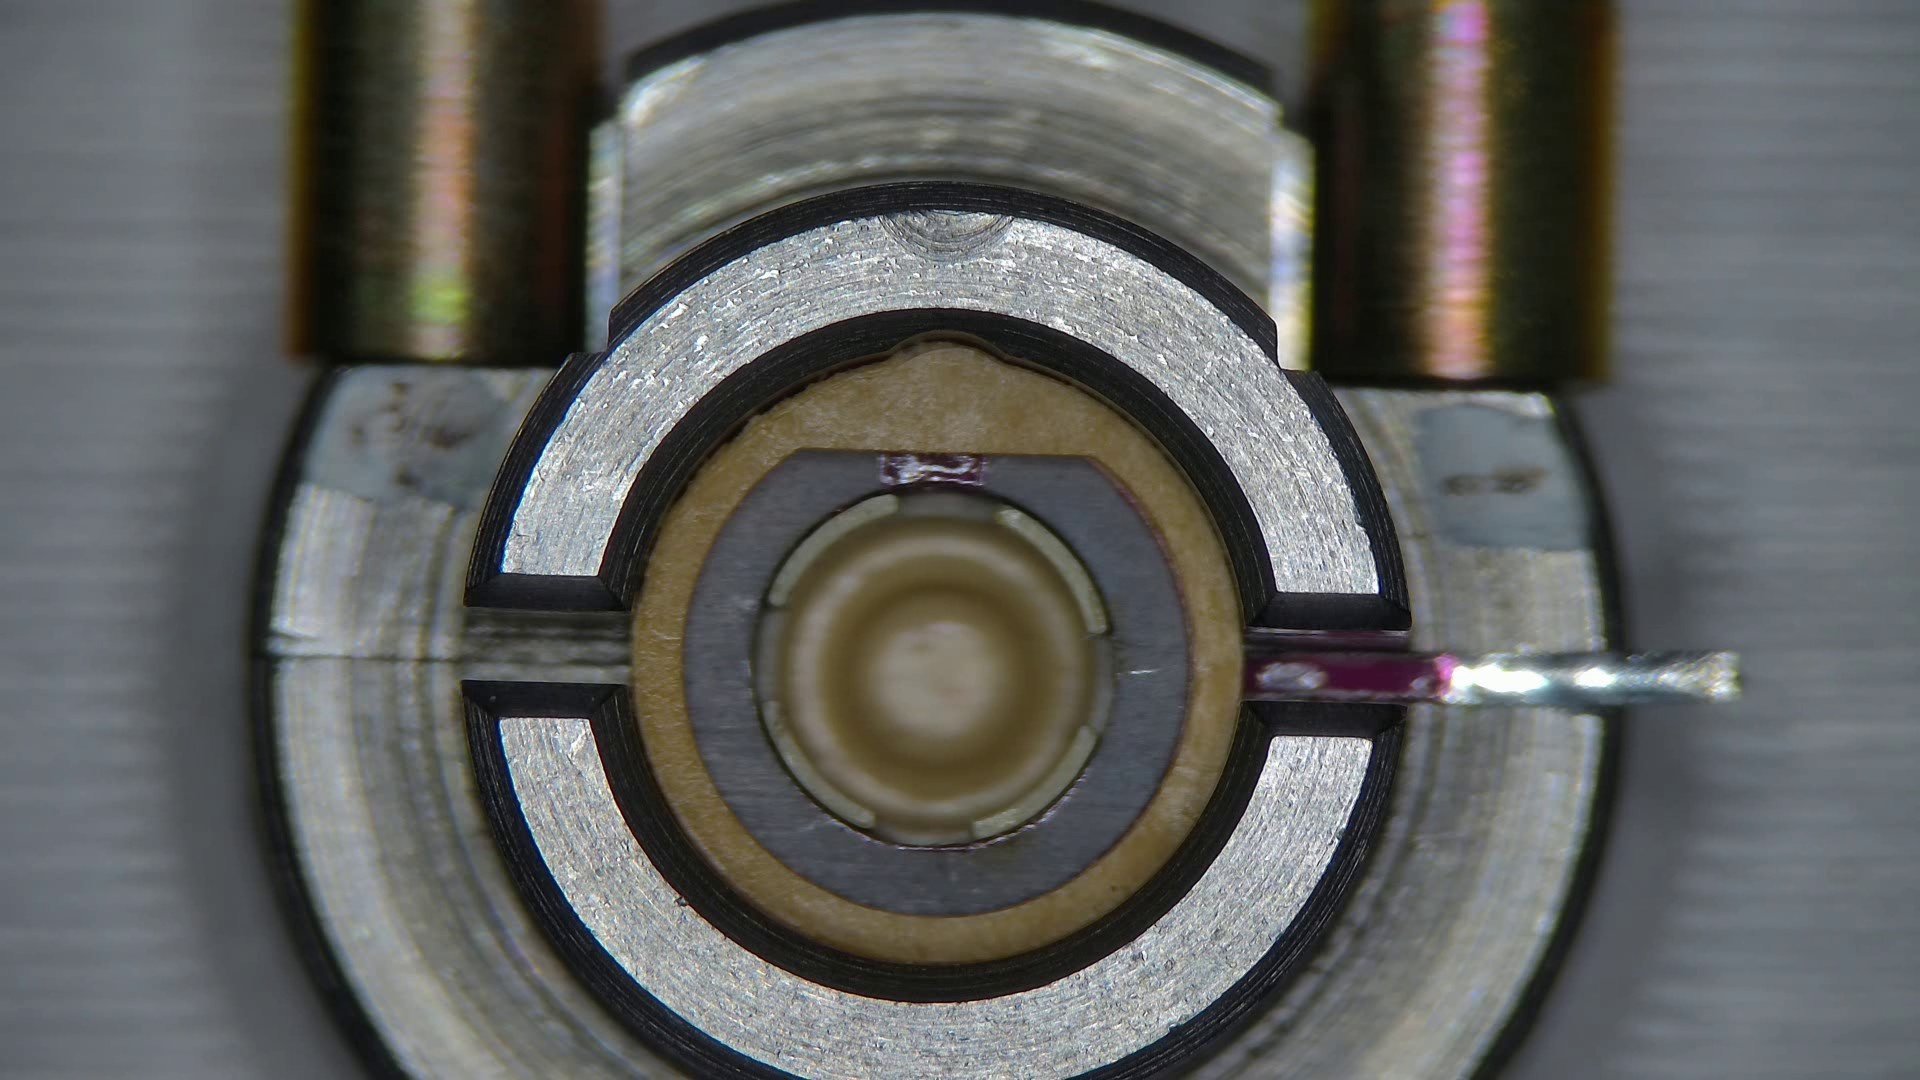YellowOring: (686, 451, 1188, 916)
redOring: (632, 344, 1246, 963)
